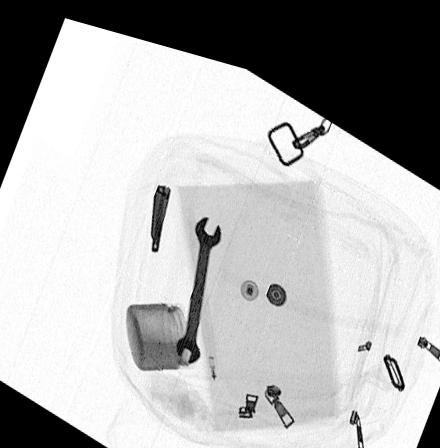Wrench: (173, 205, 219, 355)
